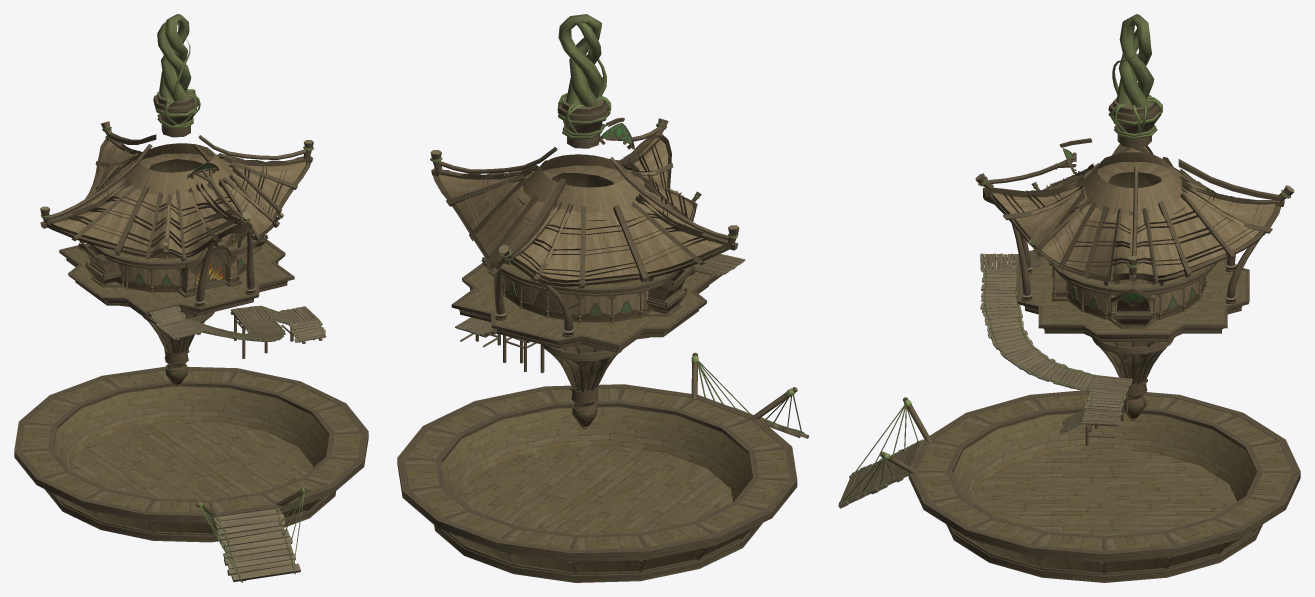
The model's file is Homeworld_Exterior_Xm_Build_Mainhouse_01_A_Lod0.fbx.
3 views of the same model, side by side, from view 1: azimuth 30°, elevation 25°; view 2: azimuth 150°, elevation 25°; view 3: azimuth 270°, elevation 25° (orthographic). The views are drawn at different scales.
Visible parts, largest first — view 1: Homeworld_Exterior_Xm_Build_Mainhouse_01_A_Lod0; view 2: Homeworld_Exterior_Xm_Build_Mainhouse_01_A_Lod0; view 3: Homeworld_Exterior_Xm_Build_Mainhouse_01_A_Lod0.
Boxes of the visible parts, <box> form: Homeworld_Exterior_Xm_Build_Mainhouse_01_A_Lod0: <box>14,14,368,582</box>; Homeworld_Exterior_Xm_Build_Mainhouse_01_A_Lod0: <box>397,14,809,582</box>; Homeworld_Exterior_Xm_Build_Mainhouse_01_A_Lod0: <box>838,14,1300,582</box>.
Size of what is drawn, in the model's own units: 35.78 by 50.19 by 42.21.
